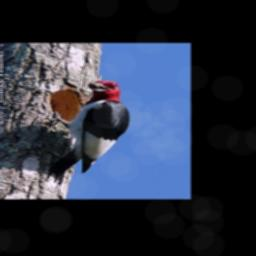Woodpecker: (40, 74, 133, 186)
